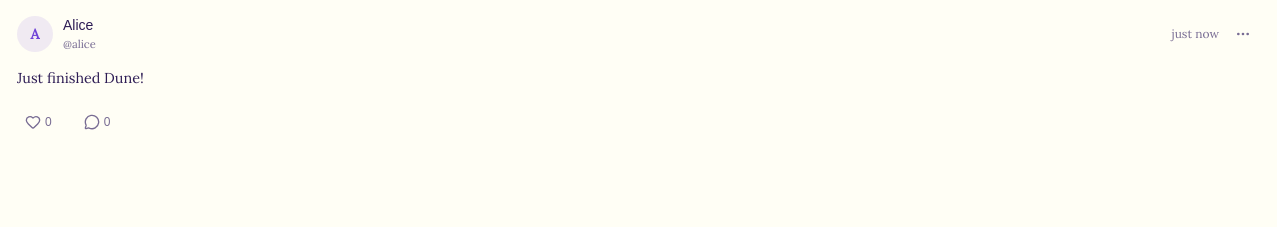
Test case: PostCard — edit › switches to edit mode when Edit post is clicked
The width and height of the screenshot is (1277, 227).
Click the button named "Post options": [1243, 34] box [1229,20,1257,48]
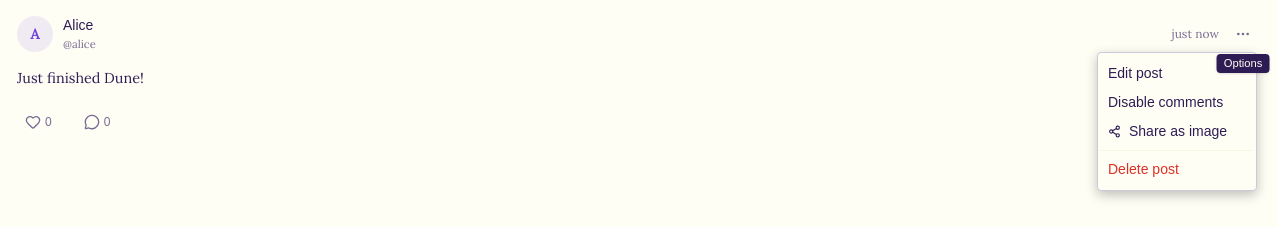
Click the menu item "Edit post": [1135, 73] box [1108,65,1162,81]
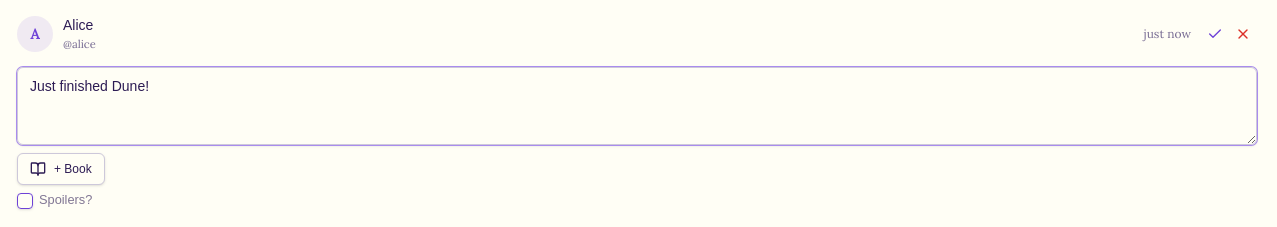
Expected: the text box named "Edit post content" is shown, [17,67,1257,145]
Expected: the button named "Save changes" is shown, [1201,20,1229,48]
Expected: the button named "Discard changes" is shown, [1229,20,1257,48]
